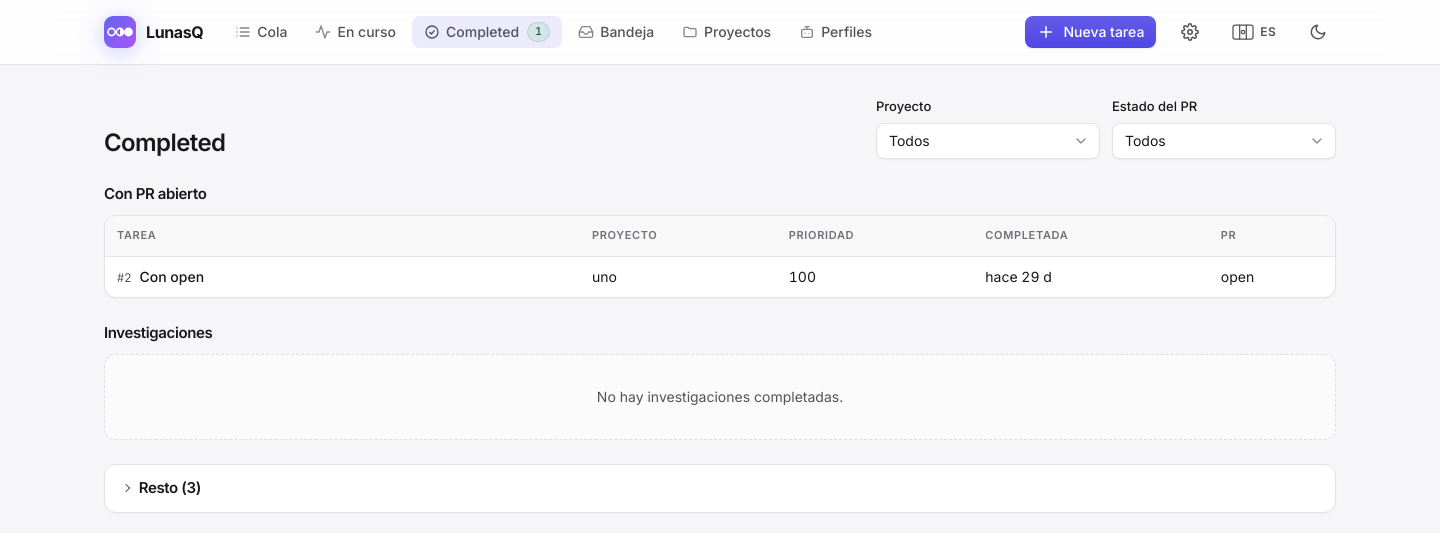
Test: Completed tab › PR state filter › going back to Todos shows all completed tasks again
Select "closed" in the dropdown labelled "Estado del PR": (1224, 140) [1112,122,1336,158]
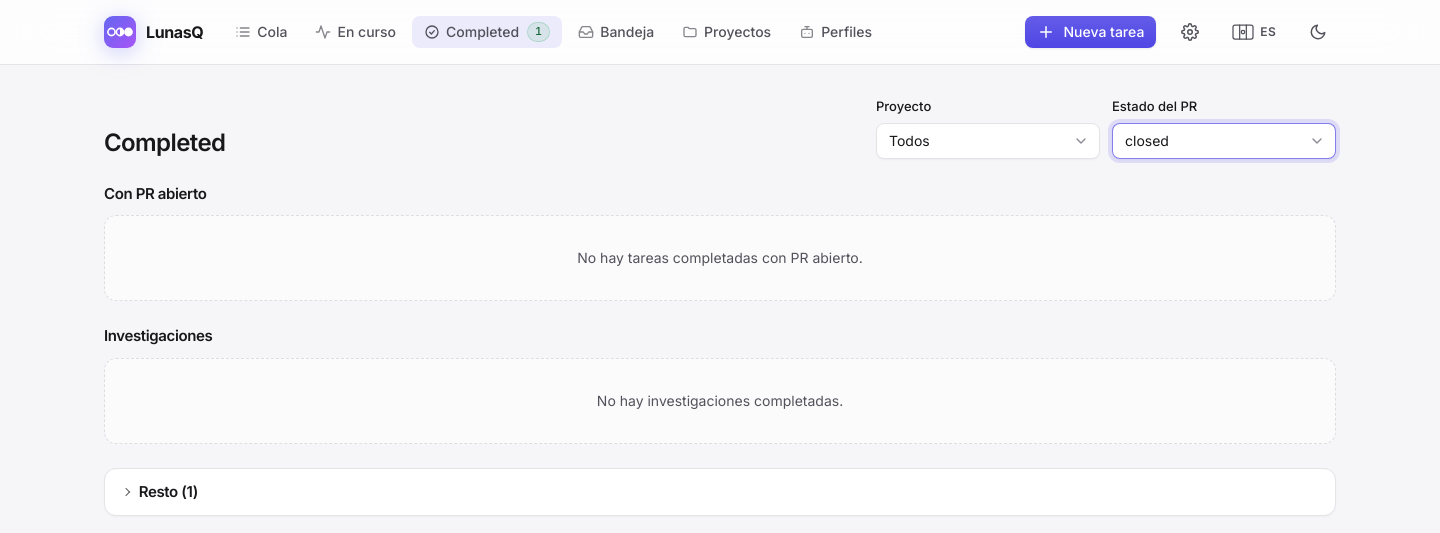
Select "Todos" in the dropdown labelled "Estado del PR": (1224, 140) [1112,122,1336,158]
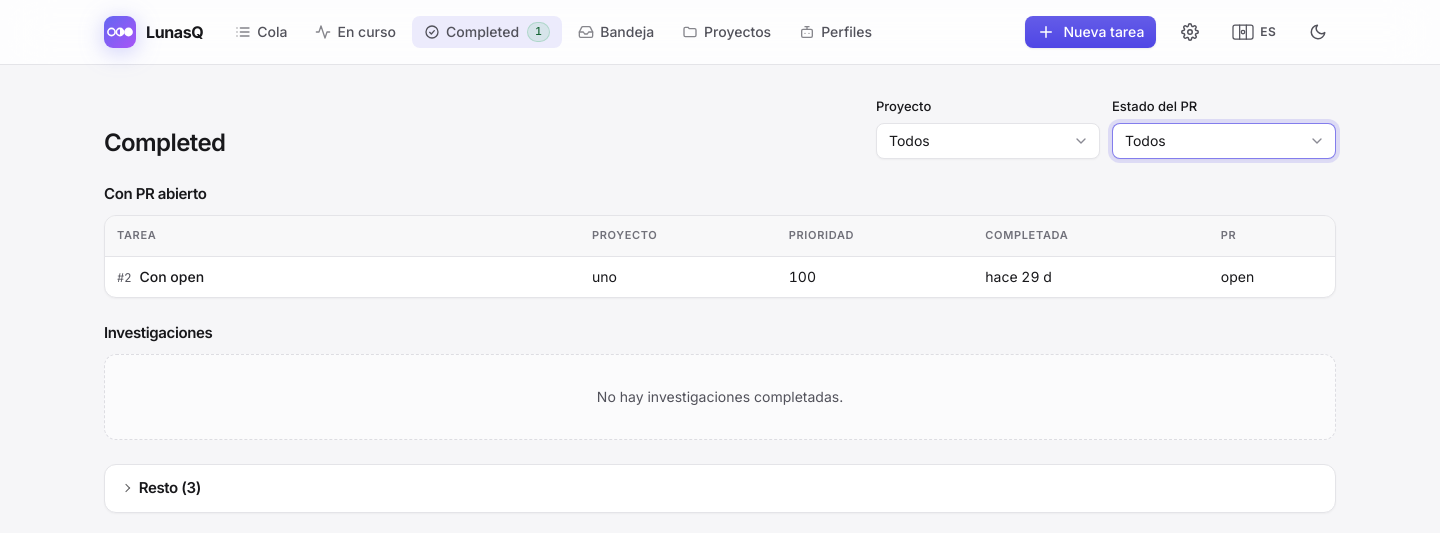
Expected: the link "Con open" is shown, [139,266,204,286]
